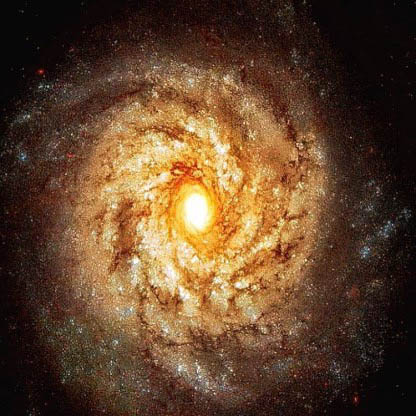NGC 3982: (20, 40, 376, 403)
